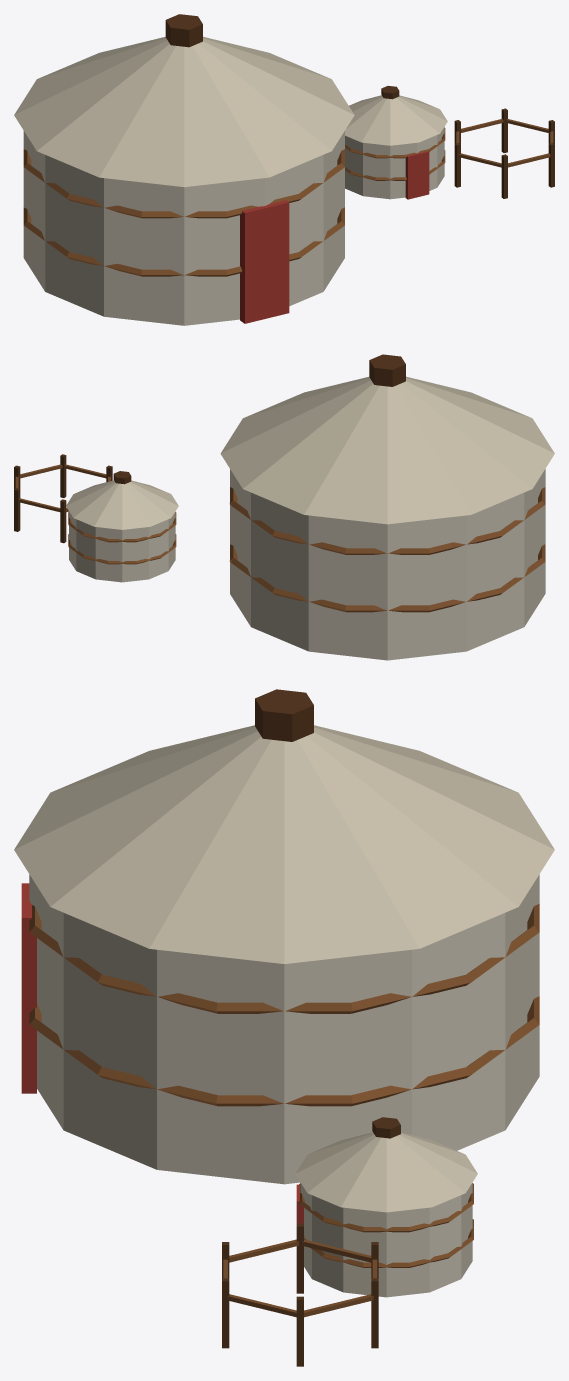
File: orc_hall.glb
3 renders of one model, top to bottom at view 1: azimuth 30°, elevation 25°; view 2: azimuth 150°, elevation 25°; view 3: azimuth 270°, elevation 25°, orthographic. The views are drawn at different scales.
Parts seen in each view (by area): view 1: orc_hall; view 2: orc_hall; view 3: orc_hall.
Boxes of the visible parts, box(x1,y1,x2,y2) form: orc_hall: box(14, 14, 554, 325); orc_hall: box(14, 354, 554, 660); orc_hall: box(14, 689, 554, 1366).
Size of the model in its own units: 5.44 by 2.35 by 3.07.
